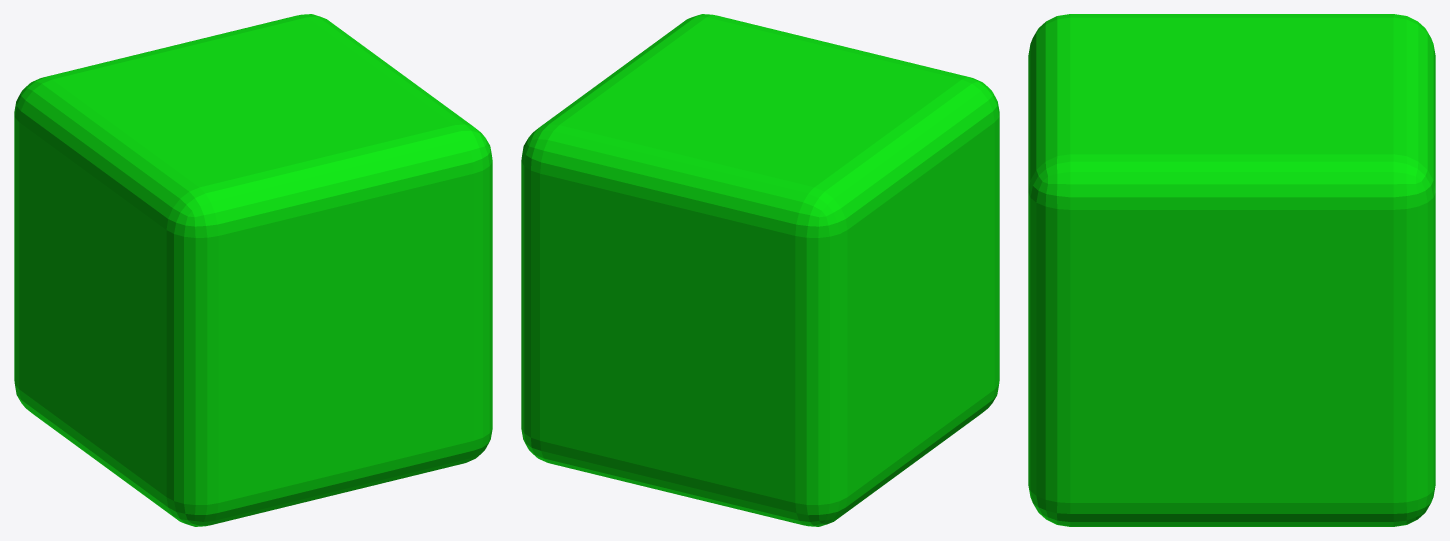
File: d6_collisionmesh.fbx
3 views of the same model, side by side, from view 1: azimuth 30°, elevation 25°; view 2: azimuth 150°, elevation 25°; view 3: azimuth 270°, elevation 25° (orthographic). The views are drawn at different scales.
Parts seen in each view (by area): view 1: Base_cube; view 2: Base_cube; view 3: Base_cube.
Part boxes in pixels (left/top/right/bottom): Base_cube: left=14, top=14, right=492, bottom=526; Base_cube: left=521, top=14, right=999, bottom=526; Base_cube: left=1028, top=14, right=1435, bottom=526.
Size of the model in its own units: 2000 by 2000 by 2000.
